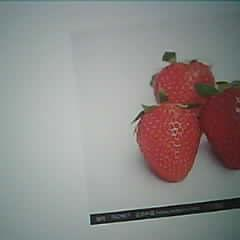straw-ripe: (137, 105, 203, 182)
